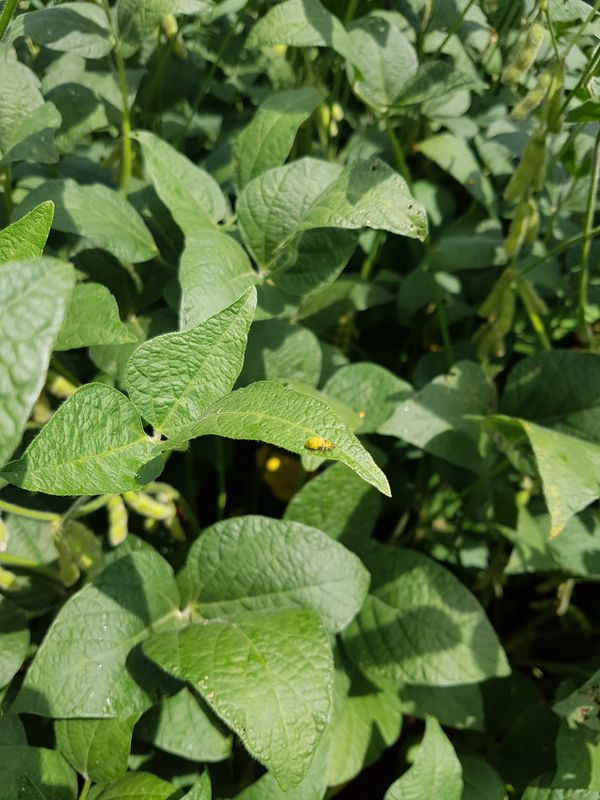Diabrotica_speciosa: (298, 432, 340, 458)
